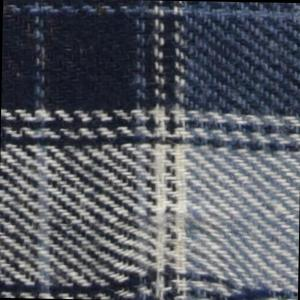Wrinkle: (83, 261, 299, 300)
